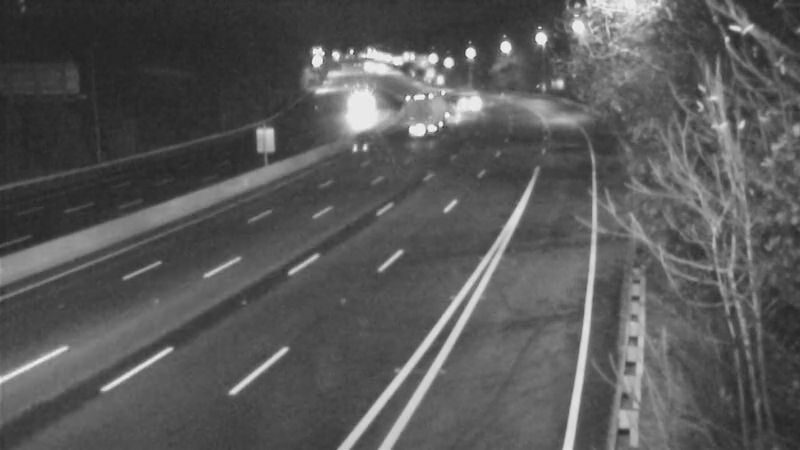vehicle: (445, 76, 495, 126), (404, 79, 454, 129), (336, 79, 386, 129)
